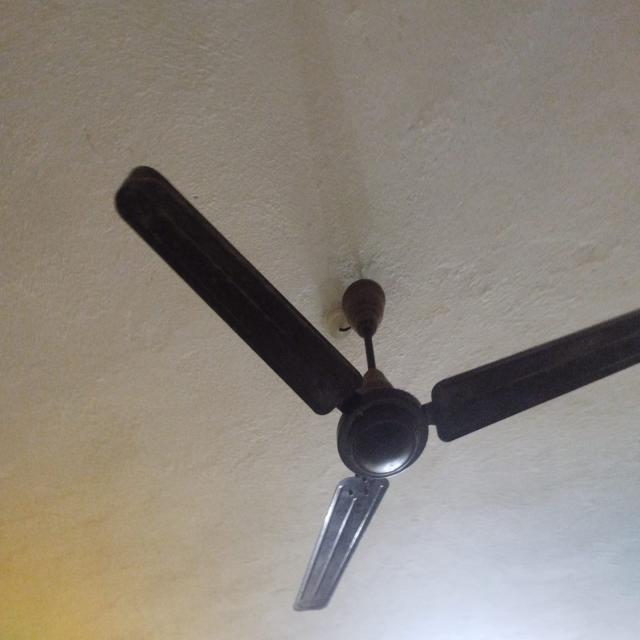fan_off: (116, 162, 640, 612)
